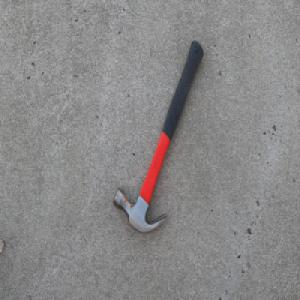Hammer: (112, 39, 204, 235)
